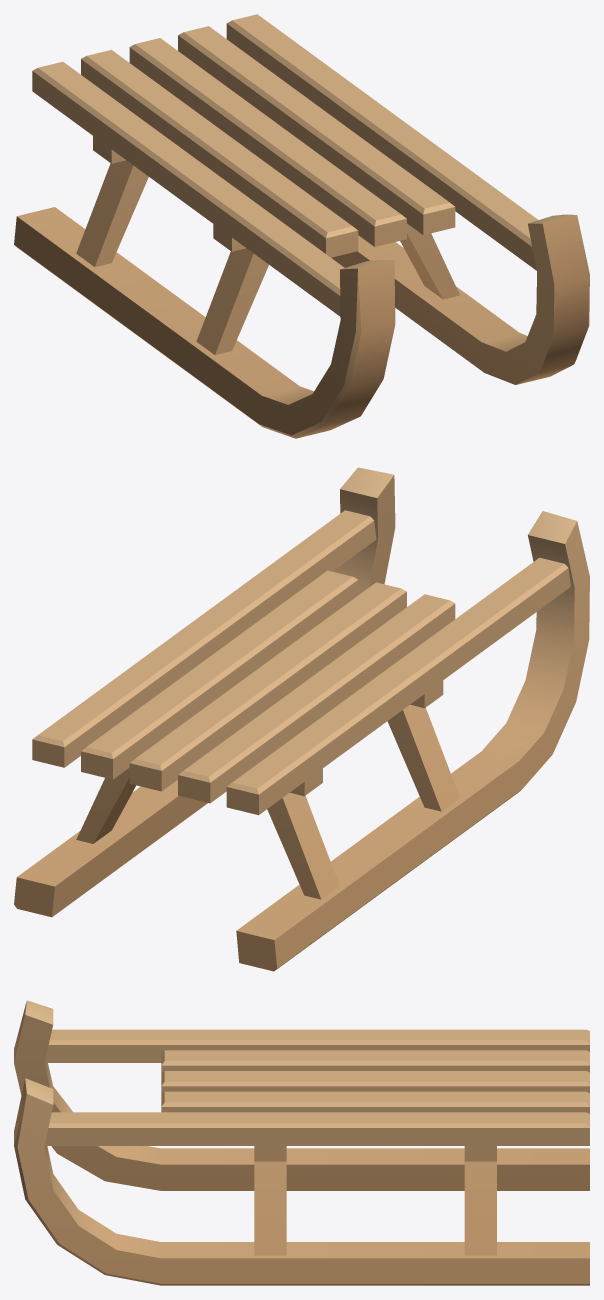
Rendered from sled.gltf.
The picture shows the model from 3 angles, top to bottom: view 1: azimuth 30°, elevation 25°; view 2: azimuth 150°, elevation 25°; view 3: azimuth 270°, elevation 25°; orthographic projection. The views are drawn at different scales.
Parts seen in each view (by area): view 1: sled; view 2: sled; view 3: sled.
Part boxes in pixels (bbox=[...]): sled: bbox=[14, 14, 589, 438]; sled: bbox=[14, 467, 589, 971]; sled: bbox=[14, 1000, 589, 1285].
Size of the model in its own units: 0.7584 by 0.581 by 1.64.
1 material, 1 textured.
